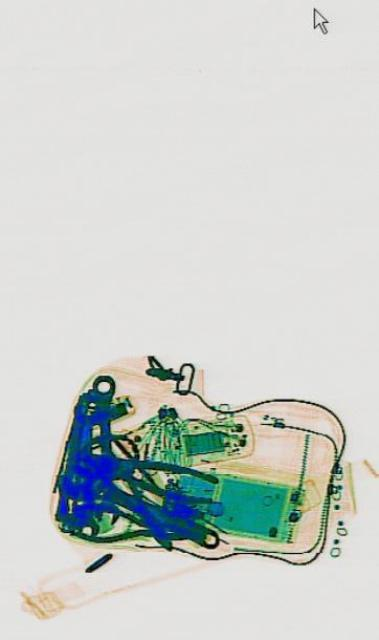Pliers: (88, 444, 217, 506)
Wrench: (59, 456, 218, 560), (89, 374, 116, 524), (71, 400, 99, 538)
